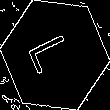L_NE: (28, 31, 82, 79)
